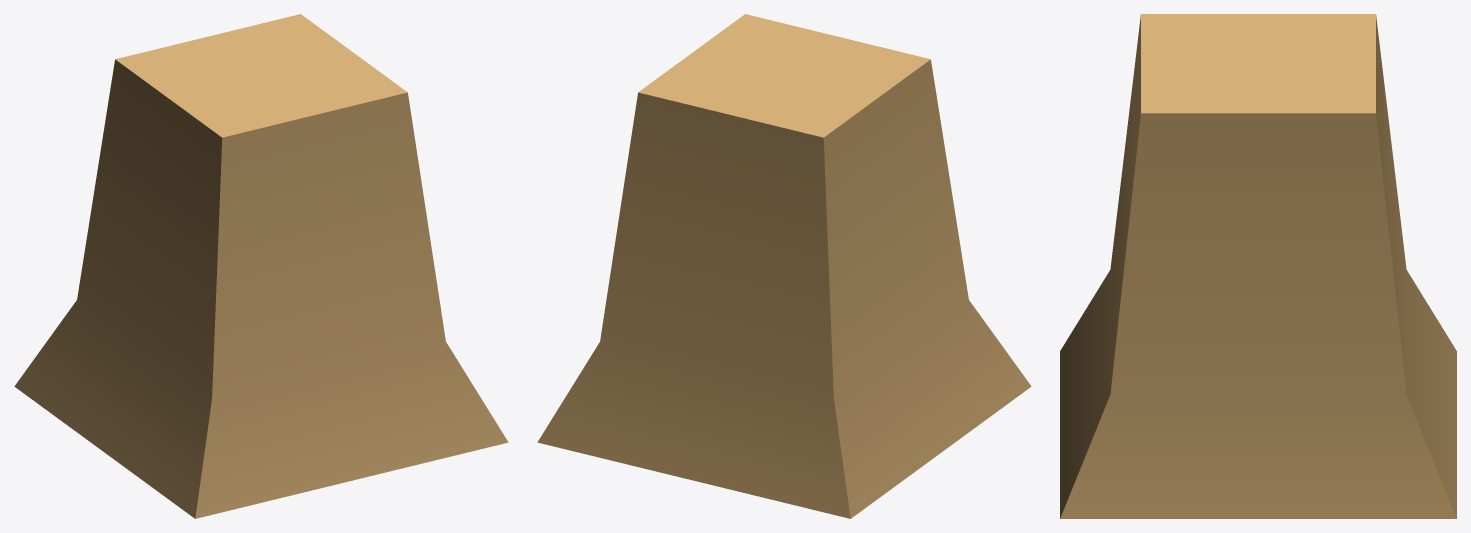
File: Trunk_02.obj
3 renders of one model, left to right at view 1: azimuth 30°, elevation 25°; view 2: azimuth 150°, elevation 25°; view 3: azimuth 270°, elevation 25°, orthographic. The views are drawn at different scales.
Visible parts, largest first — view 1: Mesh1_Trunk_Model.001; view 2: Mesh1_Trunk_Model.001; view 3: Mesh1_Trunk_Model.001.
Boxes of the visible parts, x1,y1,x2,y2 form: Mesh1_Trunk_Model.001: [14, 14, 508, 518]; Mesh1_Trunk_Model.001: [537, 14, 1031, 518]; Mesh1_Trunk_Model.001: [1060, 14, 1456, 518].
Size of the model in its own units: 0.8037 by 0.83 by 0.8037.
